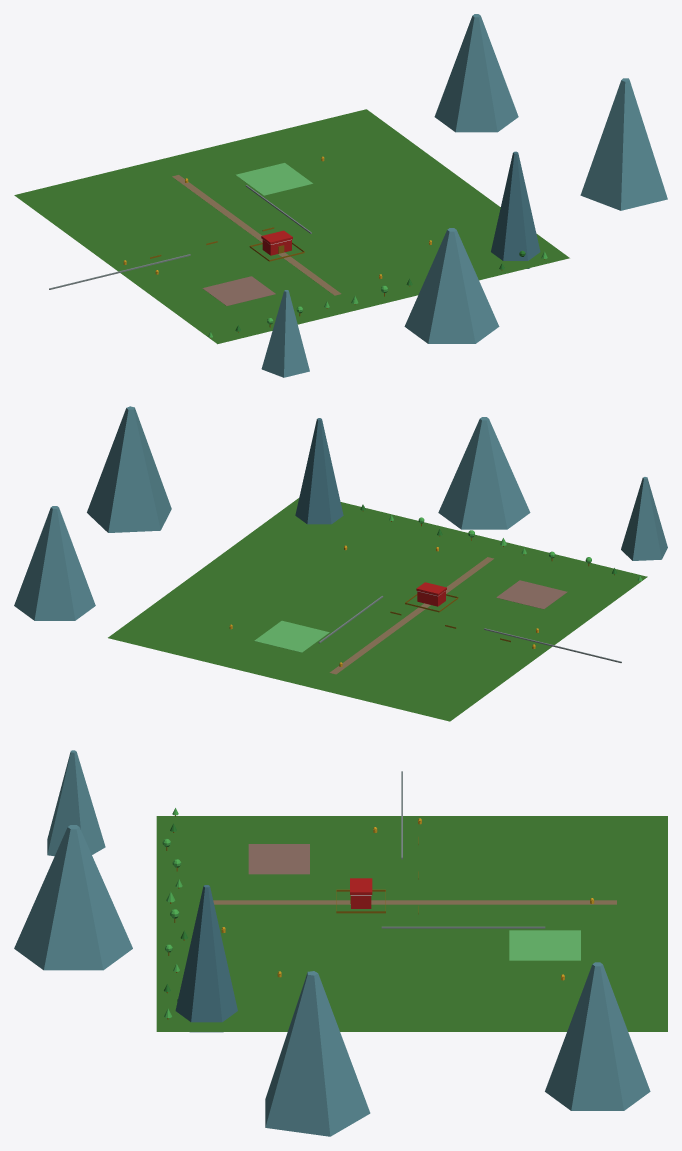
Rendered from sector_r3_c3.glb.
3 views of the same model, one above another, from view 1: azimuth 30°, elevation 25°; view 2: azimuth 150°, elevation 25°; view 3: azimuth 270°, elevation 25° (orthographic). The views are drawn at different scales.
Visible parts, largest first — view 1: GROUND_r3_c3, MOUNTAIN_34, MOUNTAIN_36, MOUNTAIN_37, MOUNTAIN_35, MOUNTAIN_33, GROUND_CropField_8, GROUND_CropField_5, ROAD_Dirt_34; view 2: GROUND_r3_c3, MOUNTAIN_36, MOUNTAIN_34, MOUNTAIN_37, MOUNTAIN_35, MOUNTAIN_33, GROUND_CropField_8, GROUND_CropField_5, ROAD_Dirt_34; view 3: GROUND_r3_c3, MOUNTAIN_36, MOUNTAIN_34, MOUNTAIN_37, MOUNTAIN_35, MOUNTAIN_33, GROUND_CropField_8, GROUND_CropField_5, ROAD_Dirt_34.
Boxes of the visible parts, x1,y1,x2,y2 form: GROUND_r3_c3: [14, 109, 569, 344]; MOUNTAIN_34: [404, 228, 499, 343]; MOUNTAIN_36: [580, 78, 667, 210]; MOUNTAIN_37: [434, 14, 518, 132]; MOUNTAIN_35: [491, 151, 540, 268]; MOUNTAIN_33: [261, 290, 309, 377]; GROUND_CropField_8: [236, 163, 312, 195]; GROUND_CropField_5: [202, 276, 275, 305]; ROAD_Dirt_34: [172, 175, 341, 295]; GROUND_r3_c3: [108, 498, 647, 721]; MOUNTAIN_36: [87, 406, 171, 532]; MOUNTAIN_34: [438, 417, 530, 529]; MOUNTAIN_37: [14, 506, 95, 620]; MOUNTAIN_35: [295, 418, 343, 524]; MOUNTAIN_33: [621, 477, 667, 560]; GROUND_CropField_8: [254, 620, 329, 652]; GROUND_CropField_5: [496, 580, 567, 609]; ROAD_Dirt_34: [329, 557, 493, 674]; GROUND_r3_c3: [156, 816, 667, 1031]; MOUNTAIN_36: [265, 971, 370, 1136]; MOUNTAIN_34: [14, 825, 132, 970]; MOUNTAIN_37: [545, 962, 650, 1110]; MOUNTAIN_35: [175, 885, 237, 1032]; MOUNTAIN_33: [47, 750, 105, 856]; GROUND_CropField_8: [509, 930, 580, 960]; GROUND_CropField_5: [248, 844, 309, 874]; ROAD_Dirt_34: [213, 900, 616, 904].
Bounding box in the file's own units: 410 × 75.6 × 320.
